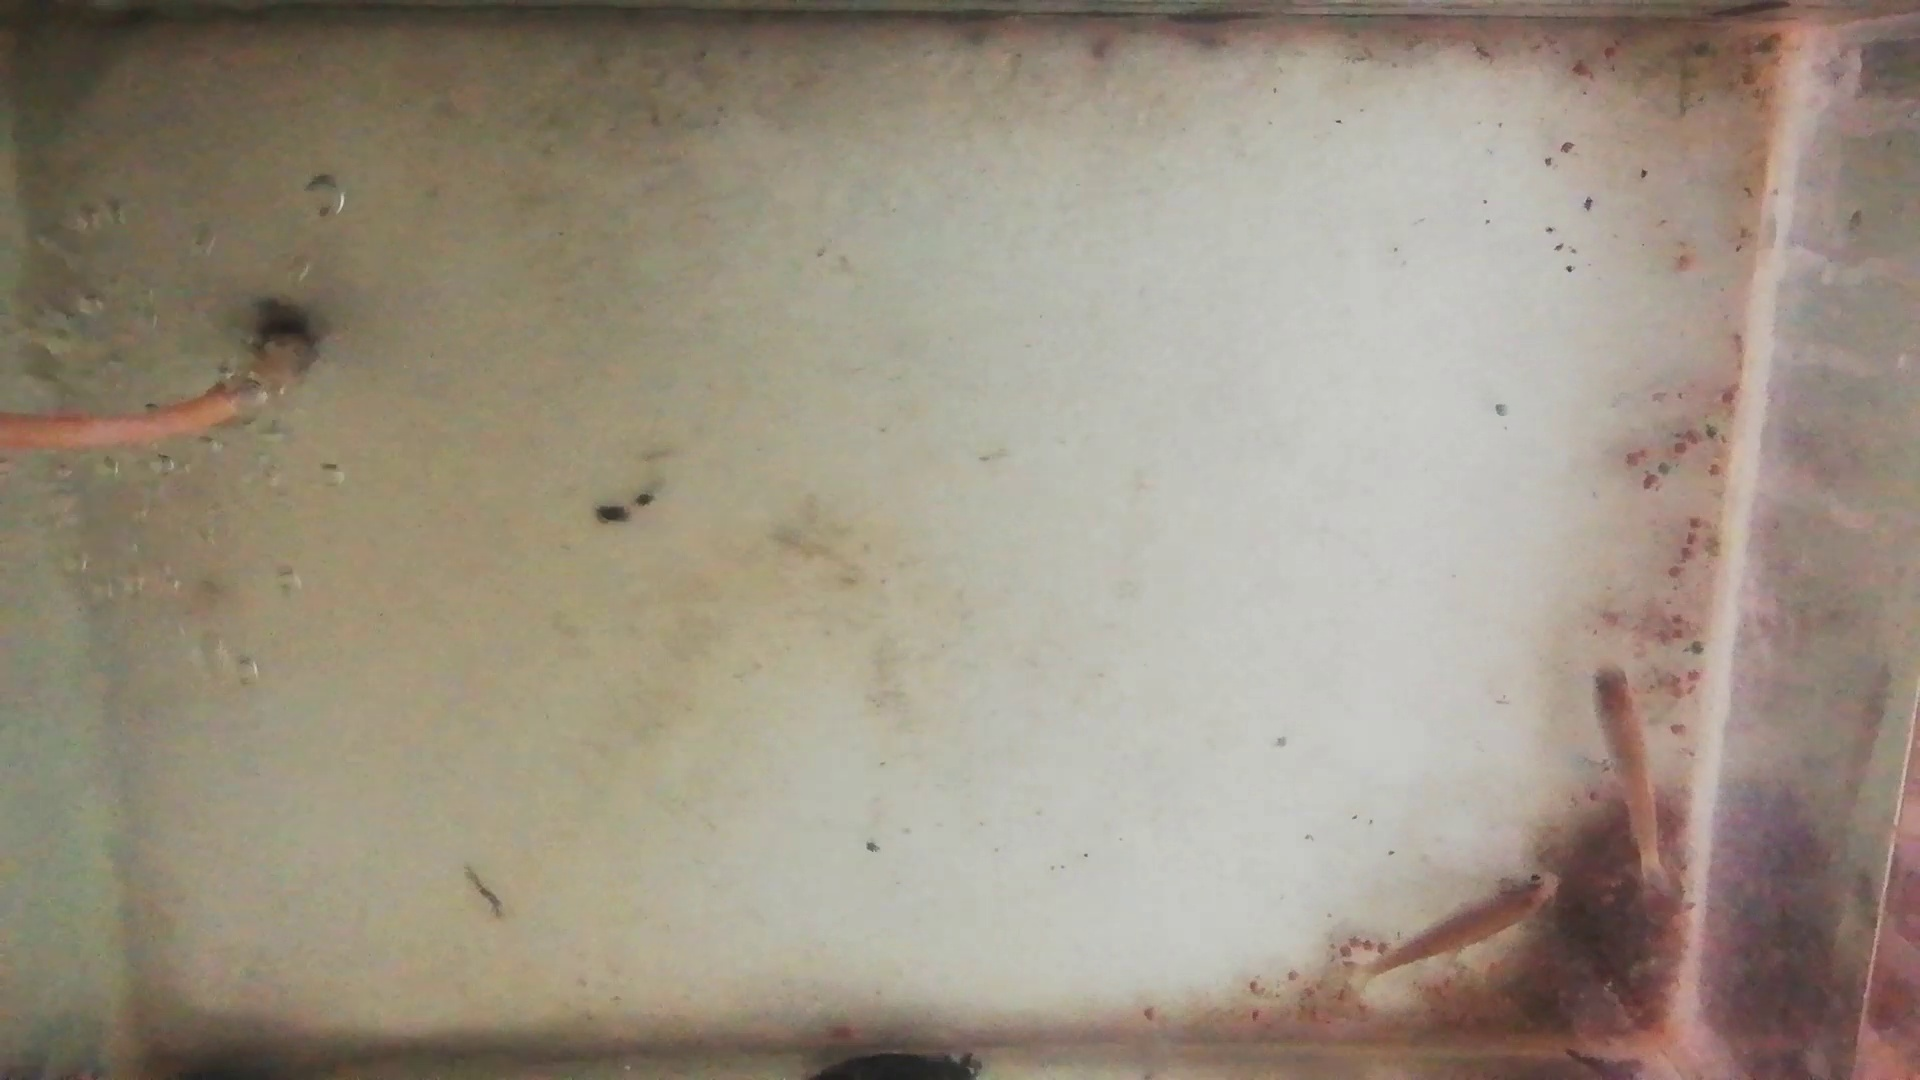fish: (1367, 873, 1557, 971), (1592, 659, 1658, 856)
